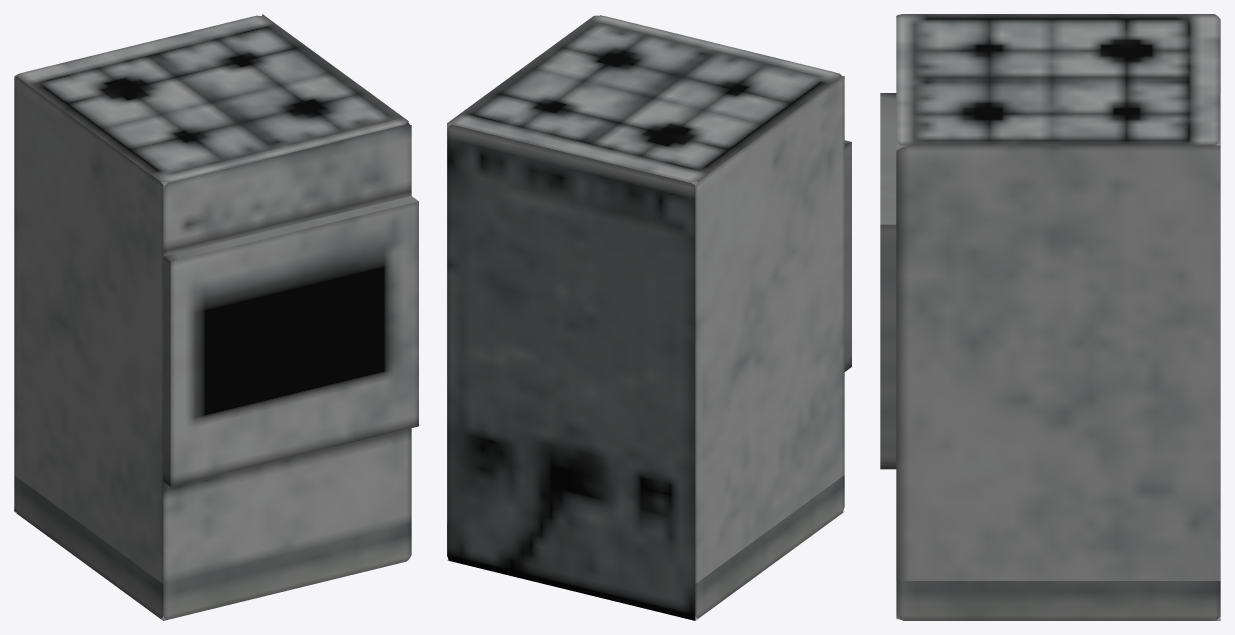
File: SM_EC_Cooker_Complete_0.fbx
The picture shows the model from 3 angles, left to right: view 1: azimuth 30°, elevation 25°; view 2: azimuth 150°, elevation 25°; view 3: azimuth 270°, elevation 25°; orthographic projection. The views are drawn at different scales.
Parts seen in each view (by area): view 1: SM_EC_Cooker_Complete_0, SM_EC_Cooker_Door_0; view 2: SM_EC_Cooker_Complete_0, SM_EC_Cooker_Door_0; view 3: SM_EC_Cooker_Complete_0, SM_EC_Cooker_Door_0.
Part boxes in pixels (left/top/right/bottom): SM_EC_Cooker_Complete_0: left=14, top=14, right=411, bottom=620; SM_EC_Cooker_Door_0: left=163, top=196, right=418, bottom=486; SM_EC_Cooker_Complete_0: left=447, top=15, right=844, bottom=620; SM_EC_Cooker_Door_0: left=844, top=140, right=851, bottom=371; SM_EC_Cooker_Complete_0: left=896, top=14, right=1220, bottom=620; SM_EC_Cooker_Door_0: left=880, top=93, right=896, bottom=469.
Bounding box in the file's own units: 0.7805 × 0.8521 × 1.31.
